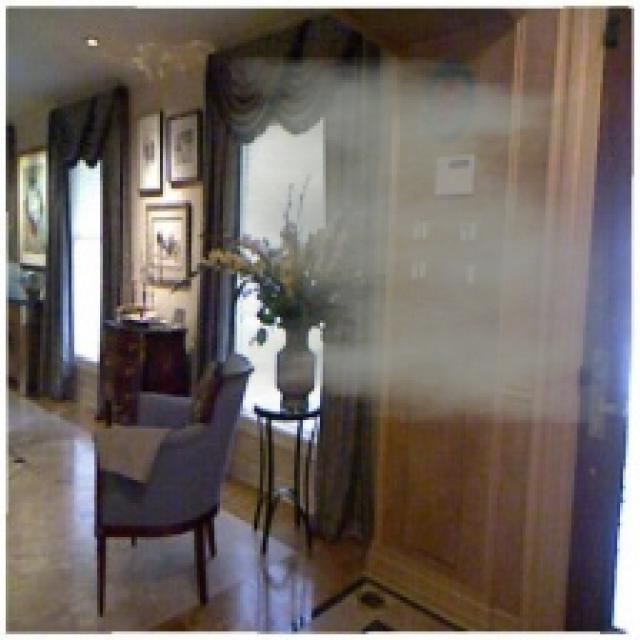Smoke: (222, 57, 608, 423)
